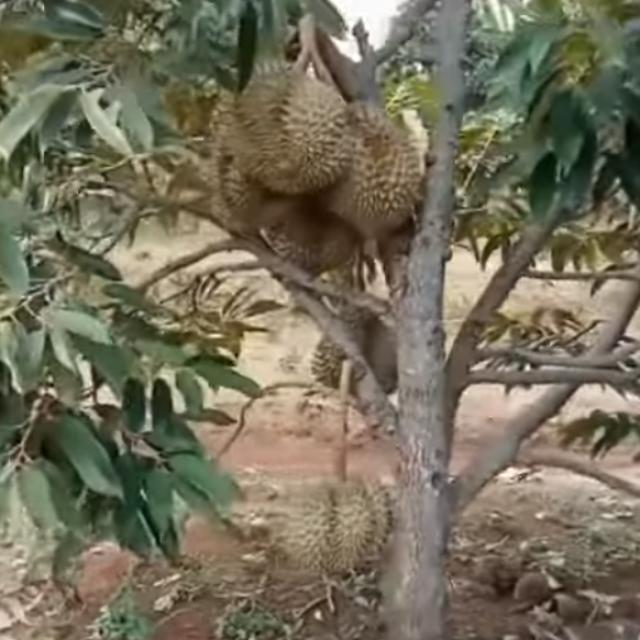mature: (224, 61, 351, 207), (276, 470, 400, 590), (322, 104, 418, 239)
